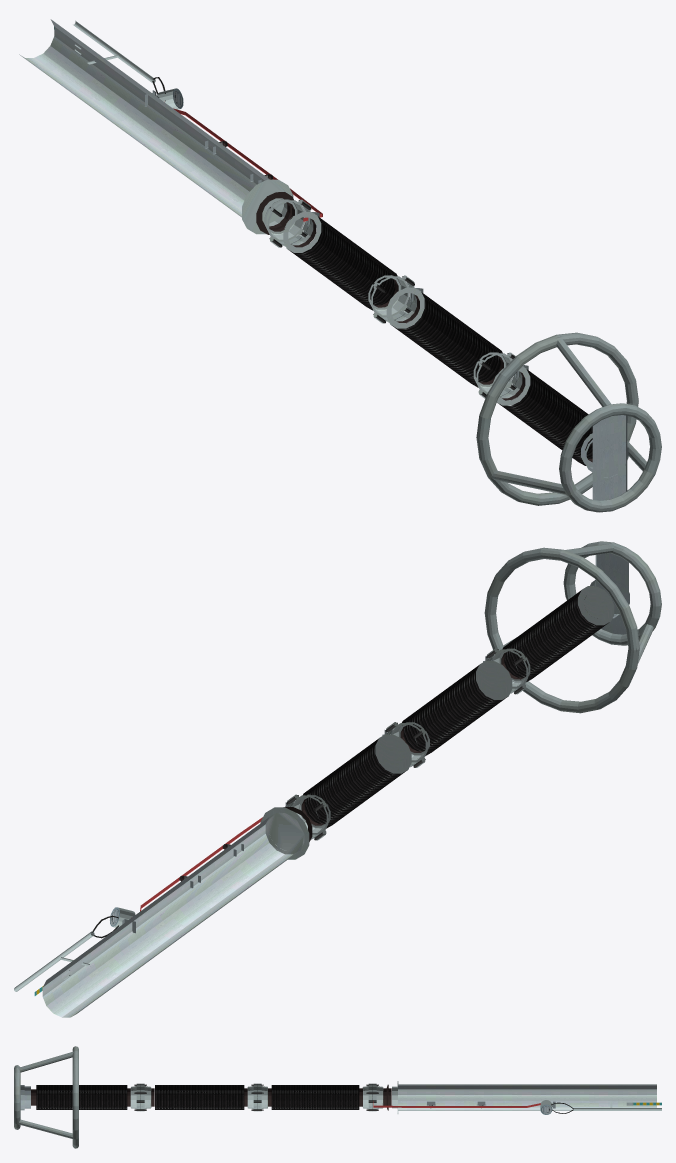
File: blq-11m00000000680588-geode.glb
The picture shows the model from 3 angles, top to bottom: view 1: azimuth 30°, elevation 25°; view 2: azimuth 150°, elevation 25°; view 3: azimuth 270°, elevation 25°; orthographic projection. The views are drawn at different scales.
Visible parts, largest first — view 1: Node; view 2: Node; view 3: Node.
Part boxes in pixels (box(x1,y1,x2,y2)): Node: box(19, 19, 661, 512); Node: box(14, 541, 661, 1017); Node: box(14, 1046, 661, 1148).
Size of the model in its own units: 1.55 by 1.55 by 9.77.
Materials: 13 (13 with a texture image).
